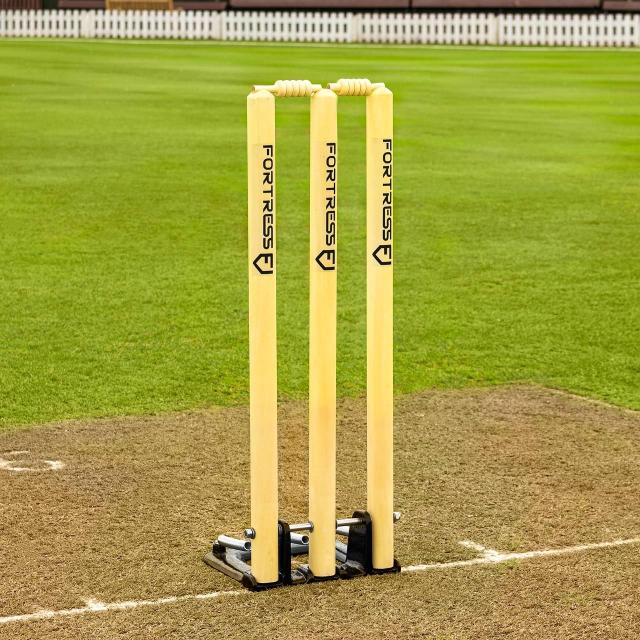stump: (242, 77, 398, 568)
